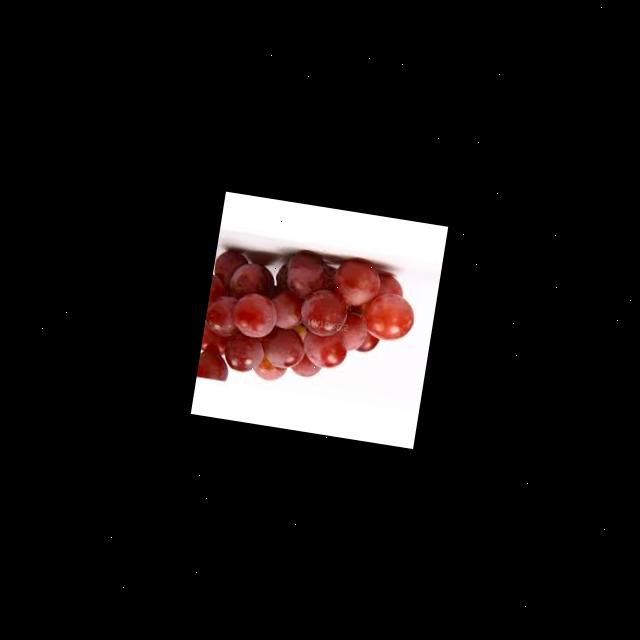grape: (197, 237, 423, 410)
